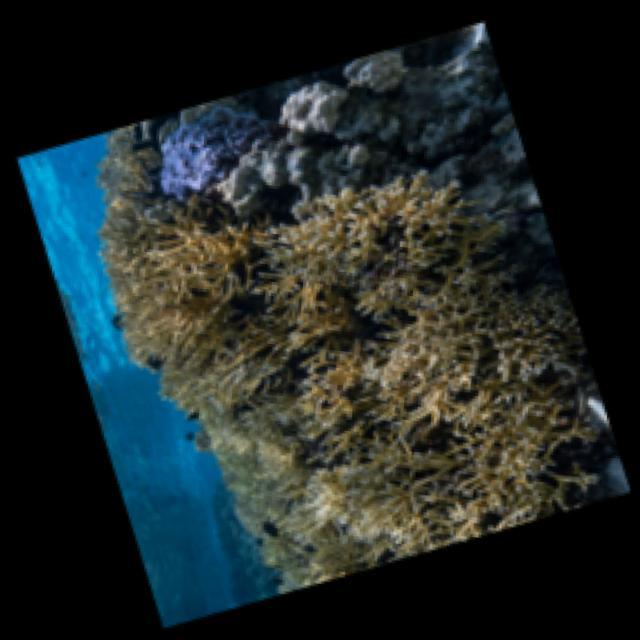Dead Coral: (172, 347, 460, 565), (91, 195, 343, 420), (336, 248, 584, 476), (284, 160, 490, 324)
